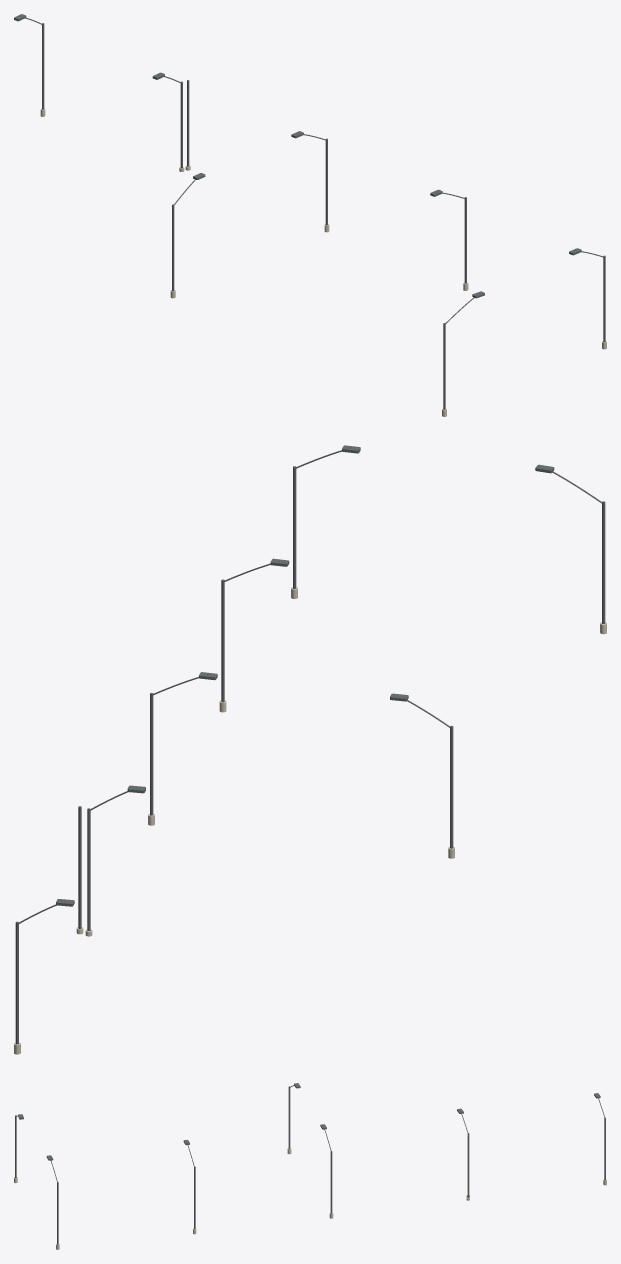
3 renders of one model, top to bottom at view 1: azimuth 30°, elevation 25°; view 2: azimuth 150°, elevation 25°; view 3: azimuth 270°, elevation 25°, orthographic. The views are drawn at different scales.
Visible parts, largest first — view 1: buildings_s_1_-2_Dark_Metal; view 2: buildings_s_1_-2_Dark_Metal; view 3: buildings_s_1_-2_Dark_Metal.
Boxes of the visible parts, x1,y1,x2,y2 form: buildings_s_1_-2_Dark_Metal: [14, 14, 605, 409]; buildings_s_1_-2_Dark_Metal: [15, 445, 605, 1044]; buildings_s_1_-2_Dark_Metal: [15, 1083, 605, 1244].
Size of the model in its own units: 43.67 by 16.75 by 113.
